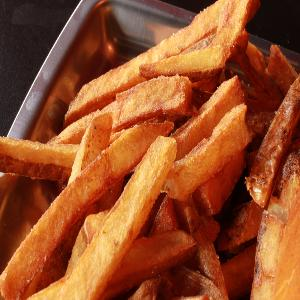fries_350cal: (18, 15, 291, 292)
